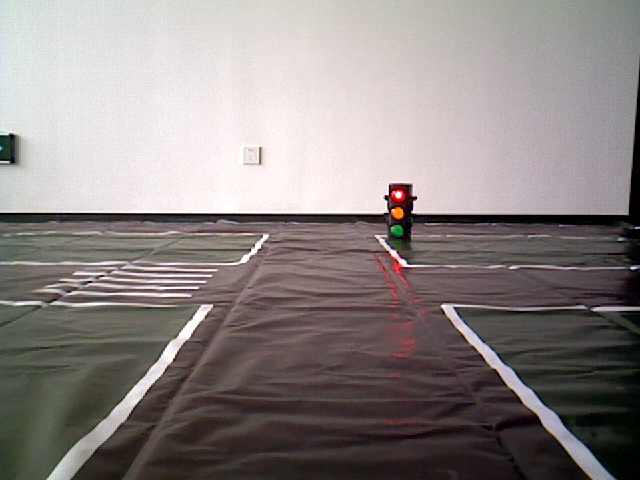red: (384, 184, 407, 240)
